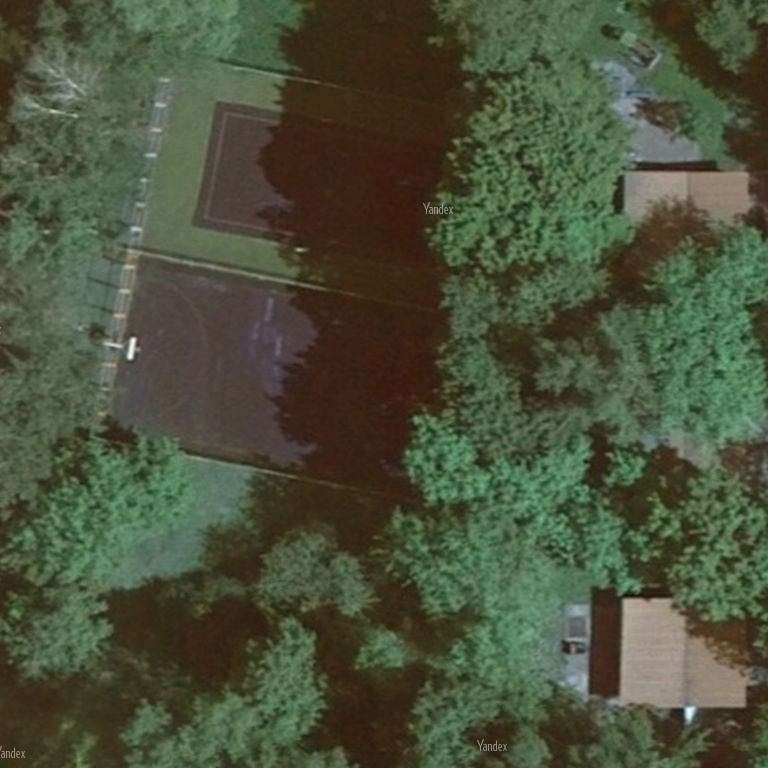basket_court: (80, 243, 493, 519)
